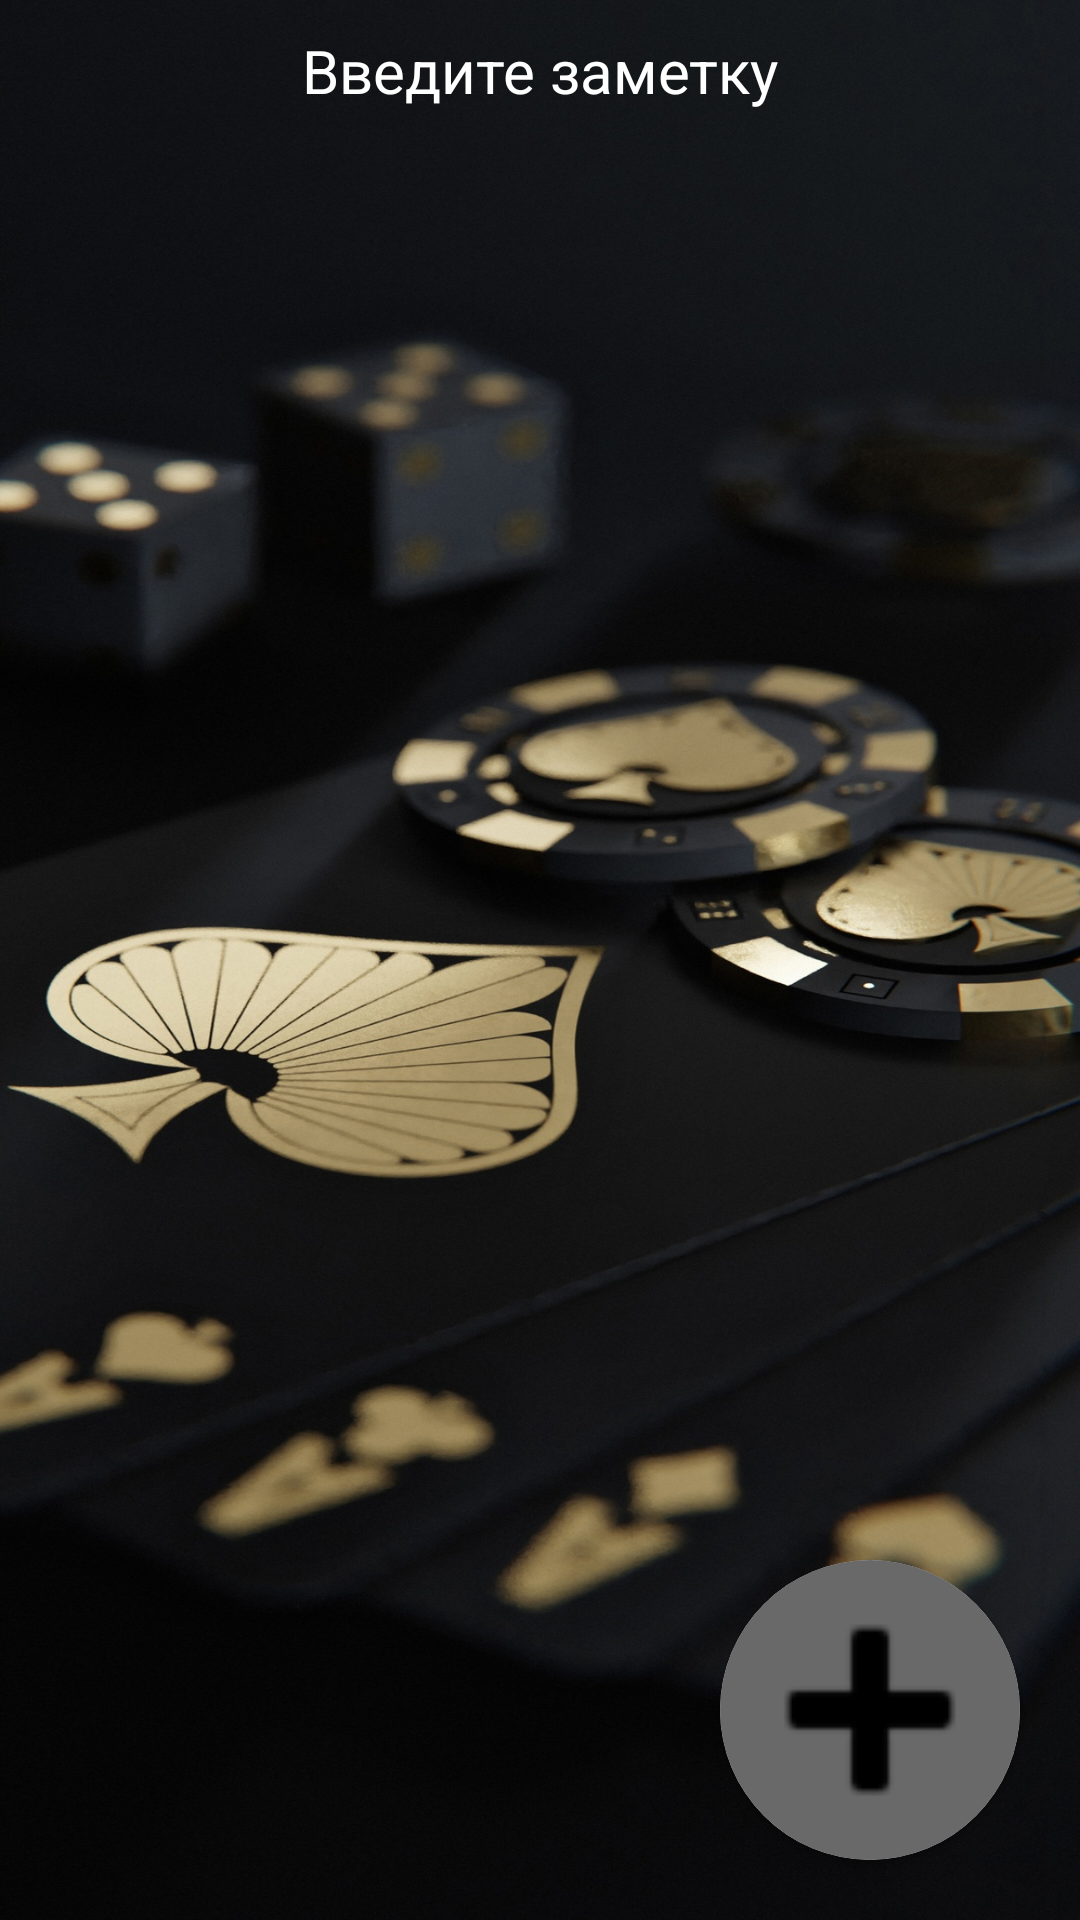

Named icons in this screenshot (1080px×1920px) and their bounding boxes, (x1=x1, y1=y1, x2=x2, y2=y2):
add: (x1=720, y1=1560, x2=1020, y2=1860)
